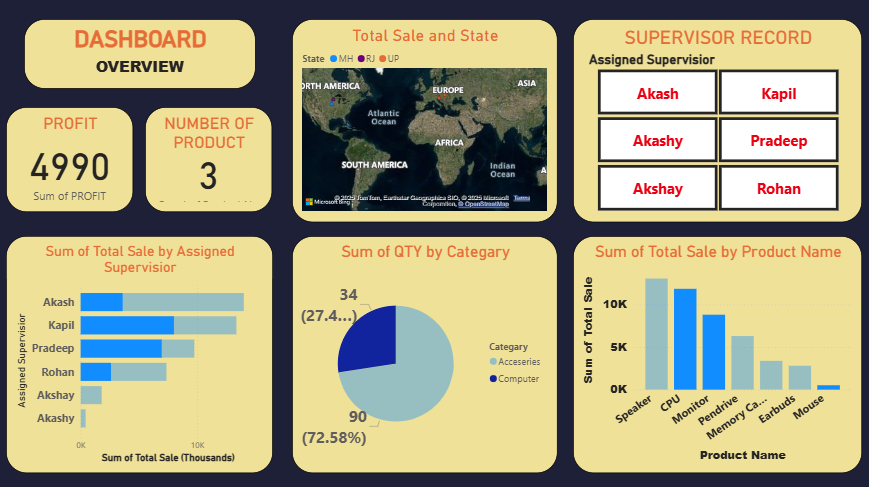

This screenshot's page, from the dashboard's own definition file:
{"tool":"powerbi","page":{"name":"Page 1","canvas":[1280,720],"ordinal":0},"visuals":[{"type":"card","title":"PROFIT","fields":{"Values":["Sheet1.PROFIT"]},"box":[20.5,162.1,184.3,151.9],"z":0},{"type":"card","title":"NUMBER OF PRODUCT","fields":{"Values":["Sheet1.Product Name"]},"box":[221.9,162.1,184.3,151.9],"z":1000},{"type":"barChart","fields":{"Category":["Sheet1.Assigned Supervisior"],"Y":["Sheet1.Total Sale"]},"box":[20.5,348.2,385.7,343],"z":2000},{"type":"pieChart","fields":{"Category":["Sheet1.Categary"],"Y":["Sheet1.QTY"]},"box":[433.5,348.2,384,343],"z":3000},{"type":"columnChart","fields":{"Y":["Sheet1.Total Sale"],"Category":["Sheet1.Product Name"]},"box":[839.7,348.2,418.1,343],"z":4000},{"type":"map","fields":{"Series":["Sheet1.State"],"Category":["Sheet1.Total Sale"]},"box":[433.5,34.1,384,293.5],"z":5000},{"type":"slicer","title":"SUPERVISOR RECORD","fields":{"Values":["Sheet1.Assigned Supervisior"]},"box":[839.7,34.1,418.1,293.5],"z":6000},{"type":"textbox","title":"DASHBOARD","box":[46.1,34.1,334.5,100.7],"z":7000}]}

Visuals, with their boxes in screenshot pixels (x1, y1, x2, y2), scaled from the page's 1280x720 canvas onto the 869x487 screenshot:
"PROFIT" card: (left=14, top=110, right=139, bottom=212)
"NUMBER OF PRODUCT" card: (left=151, top=110, right=276, bottom=212)
barChart - Sheet1.Assigned Supervisior x Sheet1.Total Sale: (left=14, top=236, right=276, bottom=468)
pieChart - Sheet1.Categary x Sheet1.QTY: (left=294, top=236, right=555, bottom=468)
columnChart - Sheet1.Total Sale x Sheet1.Product Name: (left=570, top=236, right=854, bottom=468)
map - Sheet1.State x Sheet1.Total Sale: (left=294, top=23, right=555, bottom=222)
"SUPERVISOR RECORD" slicer: (left=570, top=23, right=854, bottom=222)
"DASHBOARD" textbox: (left=31, top=23, right=258, bottom=91)
